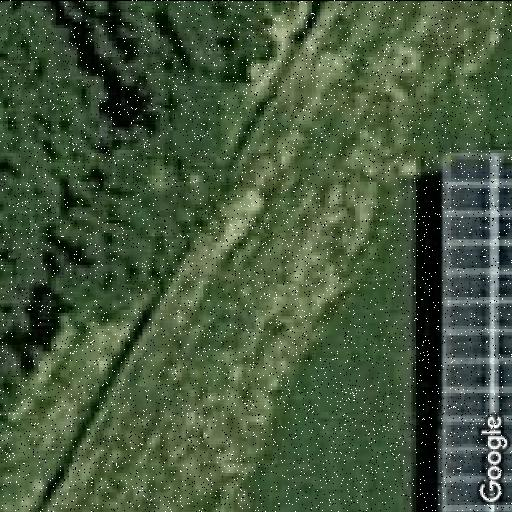solar-panel: (438, 149, 512, 512)
